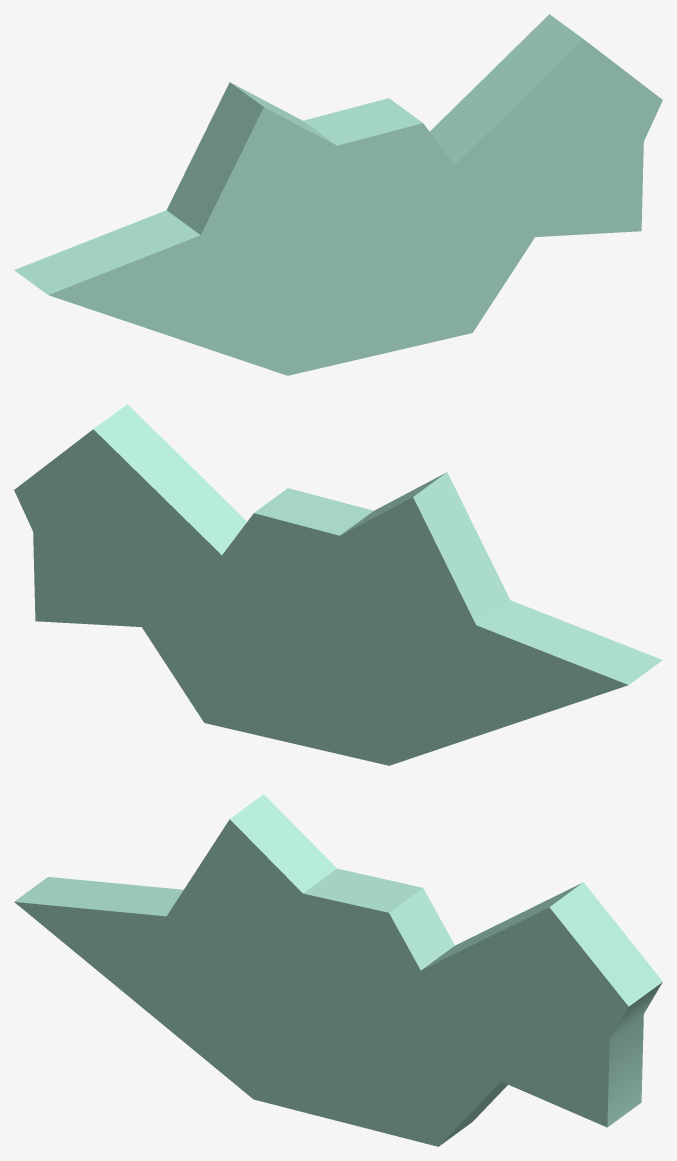
File: san_luis_del_cordero.fbx
The picture shows the model from 3 angles, top to bottom: view 1: azimuth 30°, elevation 25°; view 2: azimuth 150°, elevation 25°; view 3: azimuth 330°, elevation 25°; orthographic projection.
Visible parts, largest first — view 1: san_luis_del:cordero; view 2: san_luis_del:cordero; view 3: san_luis_del:cordero.
Boxes of the visible parts, box(x1,y1,x2,y2) form: san_luis_del:cordero: box(14, 14, 662, 375); san_luis_del:cordero: box(14, 404, 662, 765); san_luis_del:cordero: box(14, 794, 662, 1146).
Size of the model in its own units: 83.08 by 35.75 by 8.
